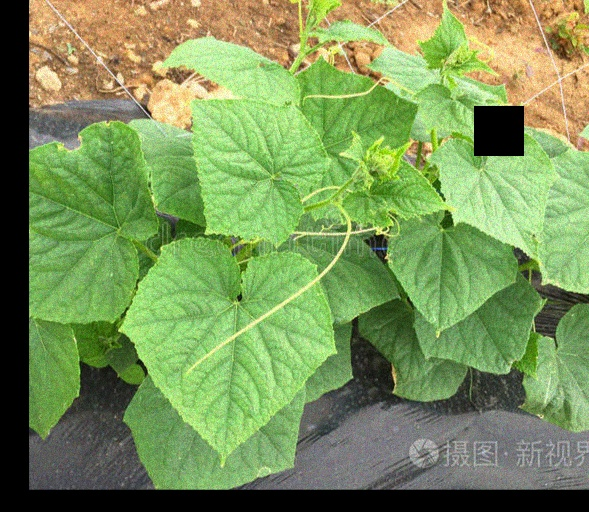cucumber_plant: (205, 48, 524, 226), (129, 225, 339, 484)
